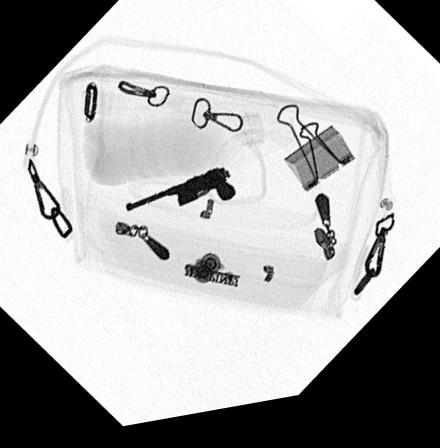Gun: (124, 173, 235, 220)
